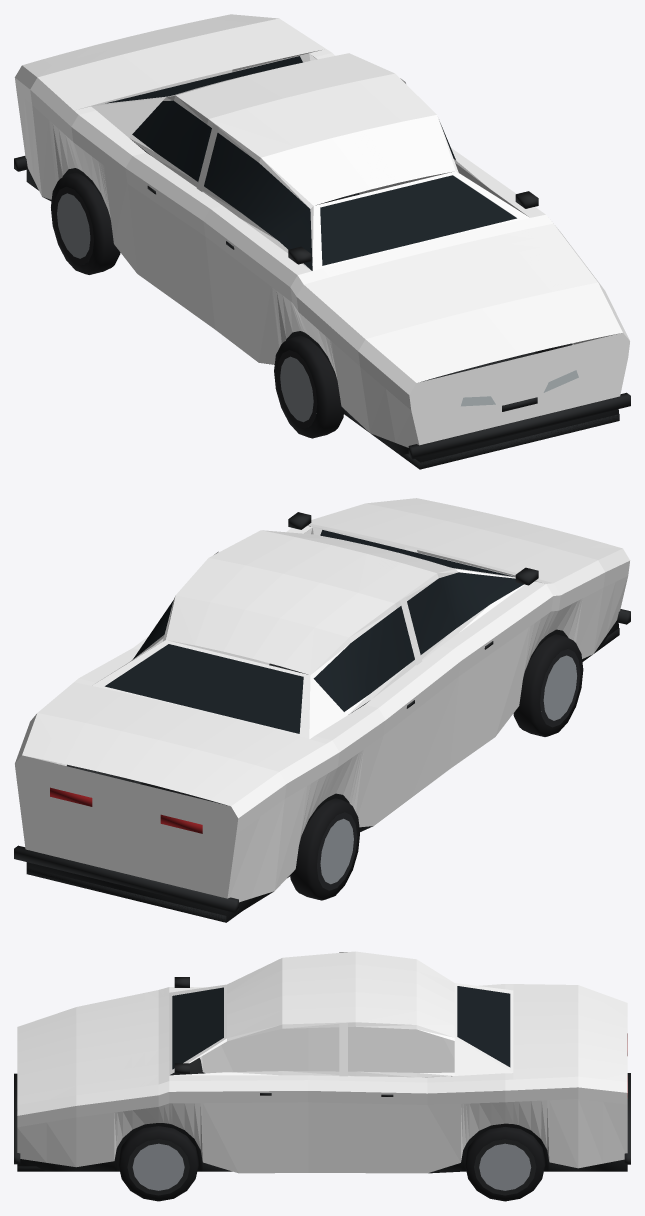
Rendered from kanaya_monolito.glb.
The picture shows the model from 3 angles, top to bottom: view 1: azimuth 30°, elevation 25°; view 2: azimuth 150°, elevation 25°; view 3: azimuth 270°, elevation 25°; orthographic projection. The views are drawn at different scales.
Parts seen in each view (by area): view 1: Body_Paint, Body_Details, Mount_FrontLeft_Wheel_Details, Mount_RearLeft_Wheel_Details; view 2: Body_Paint, Body_Details, Mount_FrontLeft_Wheel_Details, Mount_RearLeft_Wheel_Details; view 3: Body_Paint, Body_Details, Mount_FrontRight_Wheel_Details, Mount_RearRight_Wheel_Details.
Part boxes in pixels (x1,y1,x2,y2): Body_Paint: (14,14,629,447); Body_Details: (14,56,630,469); Mount_FrontLeft_Wheel_Details: (274,335,344,438); Mount_RearLeft_Wheel_Details: (51,172,120,274); Body_Paint: (15,498,630,902); Body_Details: (14,512,630,922); Mount_FrontLeft_Wheel_Details: (513,634,583,736); Mount_RearLeft_Wheel_Details: (290,798,359,900); Body_Paint: (17,951,627,1173); Body_Details: (14,977,630,1173); Mount_FrontRight_Wheel_Details: (118,1126,198,1201); Mount_RearRight_Wheel_Details: (465,1127,545,1201).
Size of the model in its own units: 2.04 by 1.58 by 5.24.
Materials: 2 (1 with a texture image).
